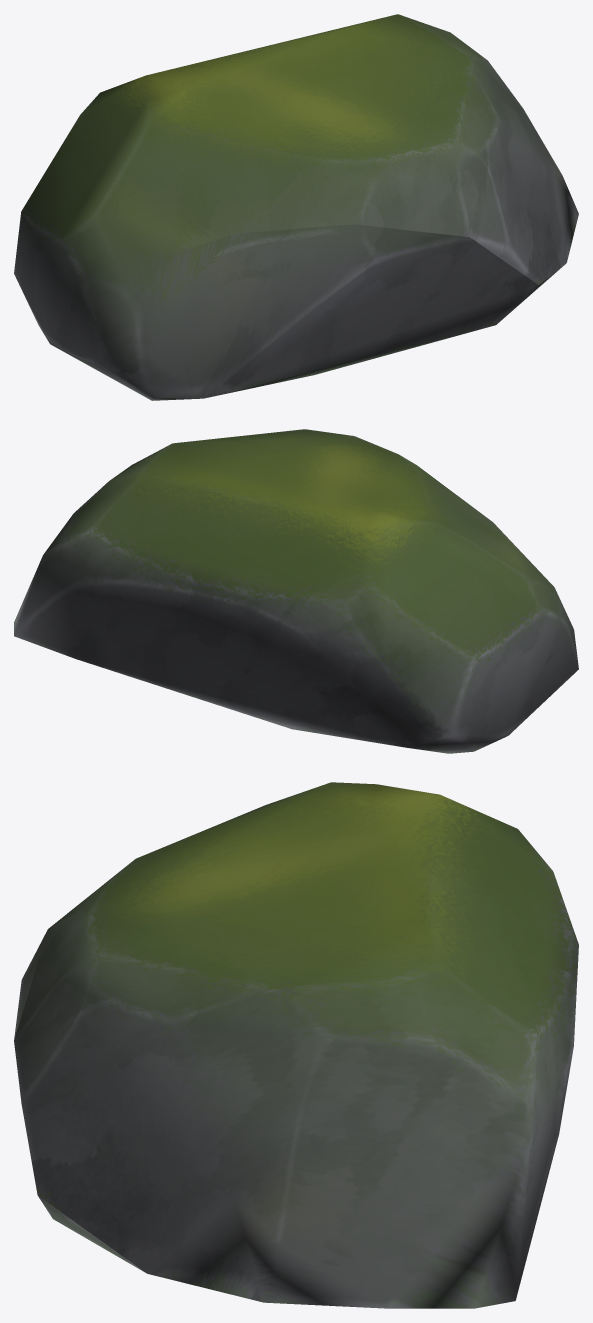
Rendered from Stone2_Moss2.fbx.
The picture shows the model from 3 angles, top to bottom: view 1: azimuth 30°, elevation 25°; view 2: azimuth 150°, elevation 25°; view 3: azimuth 270°, elevation 25°; orthographic projection. The views are drawn at different scales.
Visible parts, largest first — view 1: Stone2_Moss2; view 2: Stone2_Moss2; view 3: Stone2_Moss2.
Part boxes in pixels (left/top/right/bottom): Stone2_Moss2: left=14, top=14, right=578, bottom=400; Stone2_Moss2: left=14, top=429, right=578, bottom=753; Stone2_Moss2: left=14, top=782, right=578, bottom=1308.
Bounding box in the file's own units: 200 × 82.03 × 134.
1 material, 1 textured.
